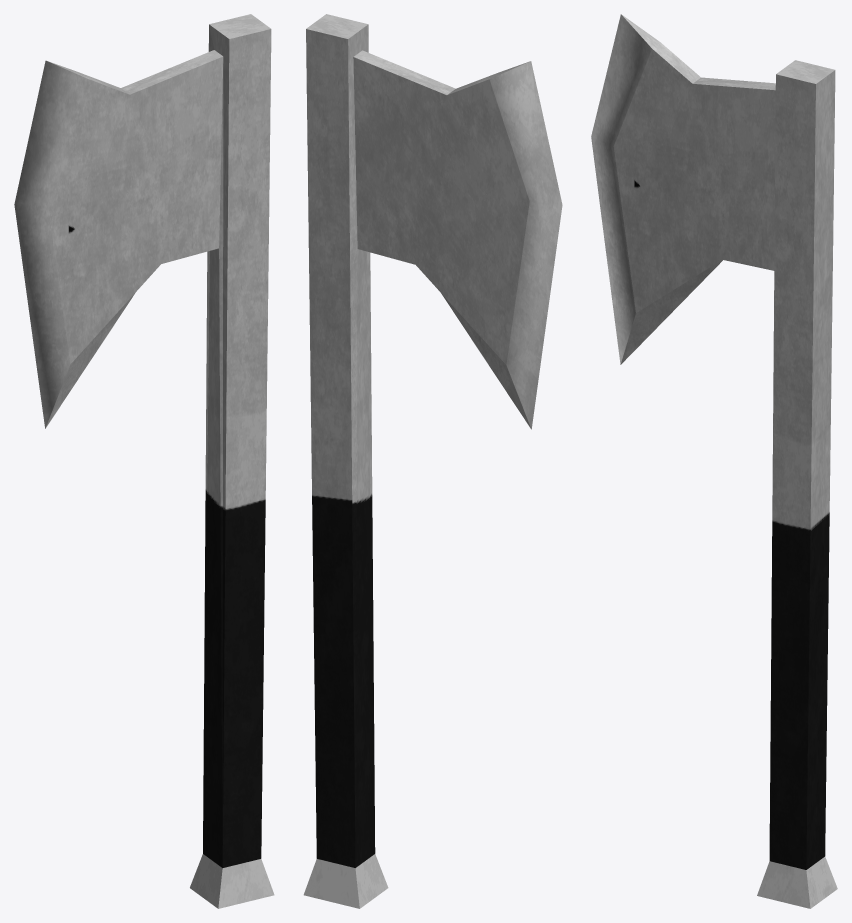
Rendered from iron_axe.fbx.
3 views of the same model, side by side, from view 1: azimuth 30°, elevation 25°; view 2: azimuth 150°, elevation 25°; view 3: azimuth 330°, elevation 25° (orthographic). The views are drawn at different scales.
Parts seen in each view (by area): view 1: Box003; view 2: Box003; view 3: Box003.
Boxes of the visible parts, box(x1,y1,x2,y2) form: Box003: box(14, 14, 274, 908); Box003: box(303, 14, 562, 908); Box003: box(591, 14, 837, 908).
Size of the model in its own units: 7.38 by 25.04 by 1.49.
1 material, 1 textured.
